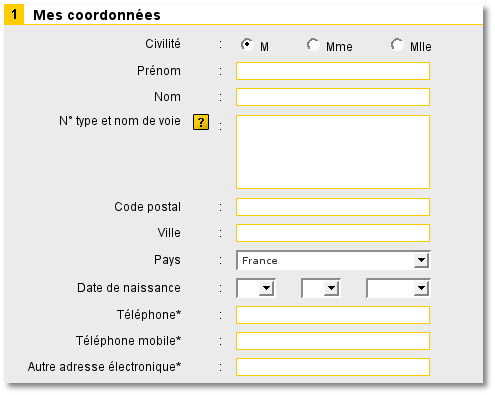_form_: (24, 1, 440, 395)
field: (235, 114, 431, 190), (233, 331, 432, 351), (234, 197, 431, 217), (234, 305, 431, 325), (234, 357, 431, 377), (234, 61, 430, 81), (235, 223, 430, 243), (234, 87, 431, 106)
field_with_label: (58, 113, 433, 191), (29, 355, 432, 378), (76, 329, 432, 352), (113, 196, 433, 218), (118, 304, 432, 326), (154, 248, 432, 272), (154, 85, 432, 108), (157, 221, 432, 244), (136, 60, 431, 81), (78, 275, 280, 302)
radio: (240, 36, 257, 52), (390, 37, 406, 52), (306, 37, 322, 51)
radio_with_label: (304, 35, 354, 53), (388, 34, 434, 53), (238, 34, 271, 54)
select: (236, 249, 431, 271), (365, 277, 430, 300), (236, 277, 278, 300), (300, 277, 342, 300)
